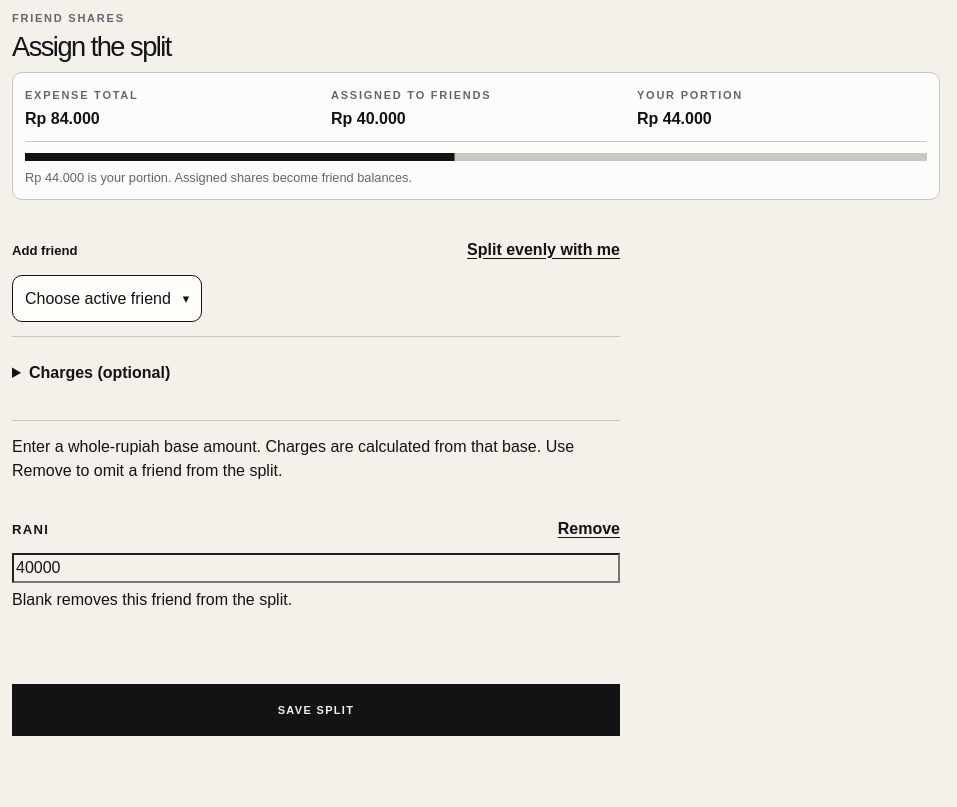
Test: expense share editor › keeps charges collapsed when none exist until opened
This screenshot has width=957, height=807.
Click the heading "Charges (optional)" at (100, 373), box [29,364,170,381]
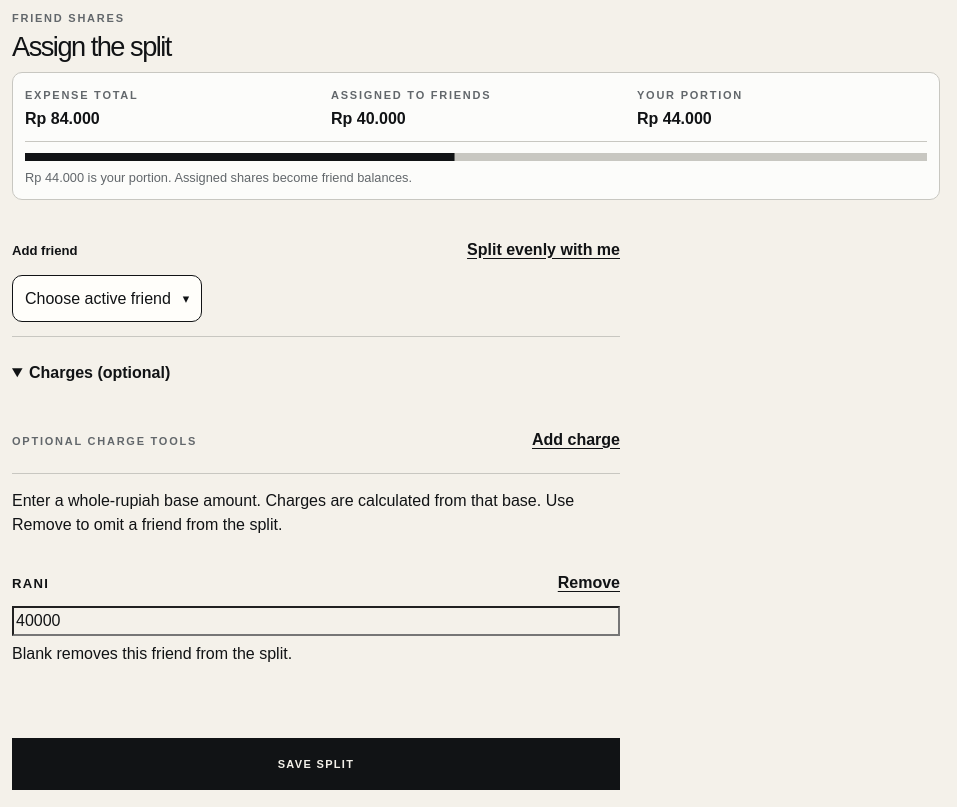
Expected: the button "Add charge" is shown, [532,420,620,460]
